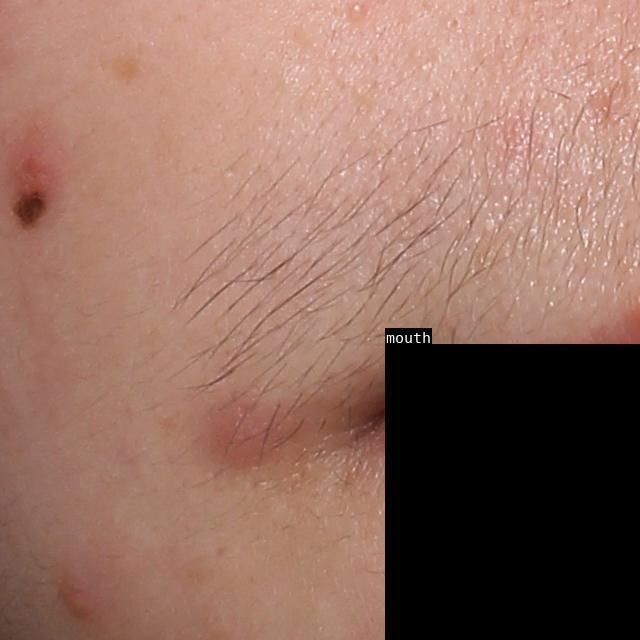comedo: (446, 14, 463, 29), (350, 4, 366, 19)
nevus: (16, 195, 45, 231)
papule: (207, 402, 267, 483), (11, 146, 62, 194), (56, 576, 104, 622)
